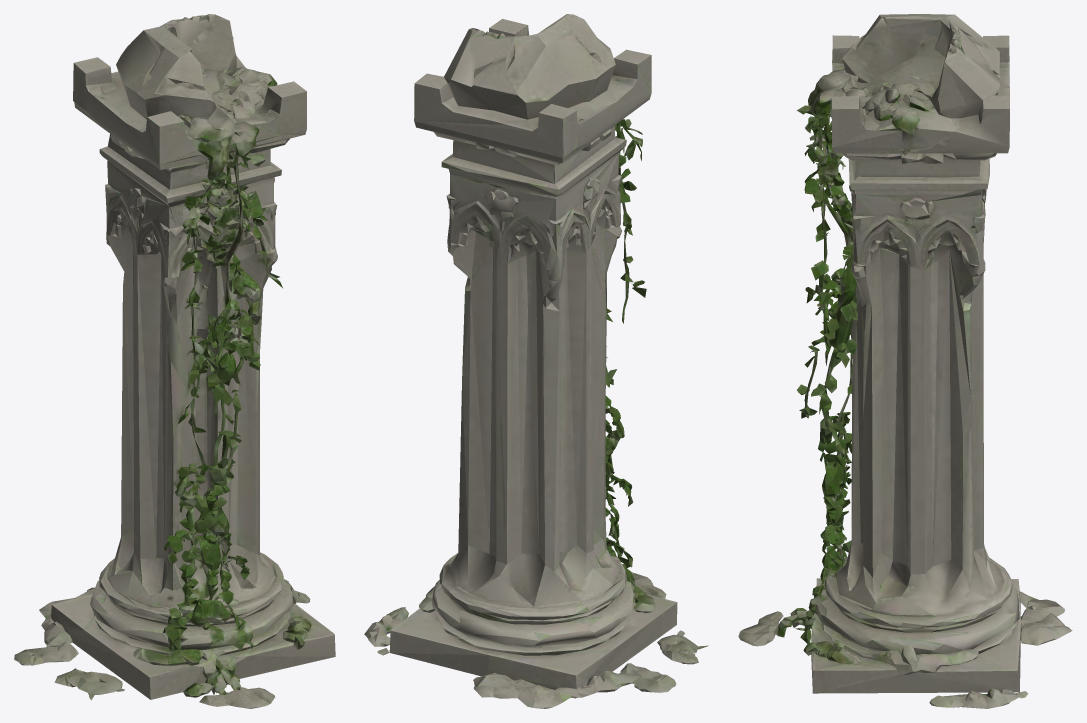
Rendered from mx_pr_broken_column.glb.
3 renders of one model, left to right at view 1: azimuth 30°, elevation 25°; view 2: azimuth 150°, elevation 25°; view 3: azimuth 270°, elevation 25°, orthographic. The views are drawn at different scales.
Bounding box in the file's own units: 0.9308 × 1.91 × 0.9258.
1 material, 1 textured.
